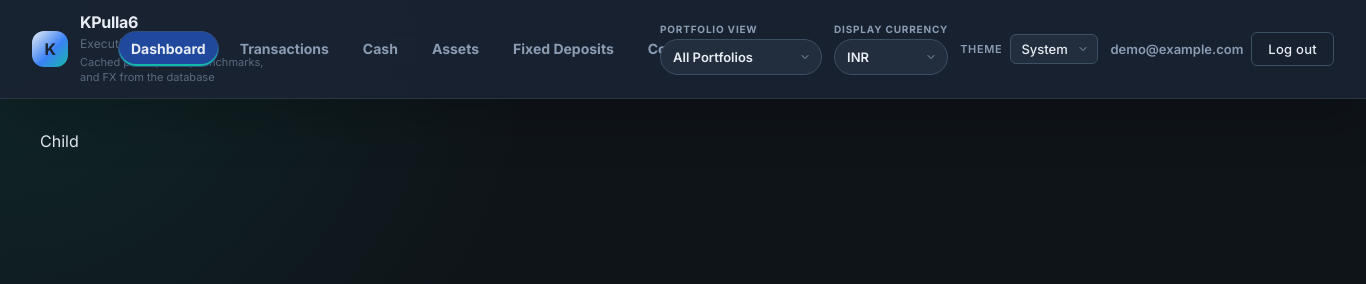
Layout component › auto-selects EUR display currency when selecting EUR portfolio
This screenshot has width=1366, height=284.
Select "Default Portfolio" in the dropdown named "portfolio-view": [741, 57] box x1=660 y1=39 x2=822 y2=75
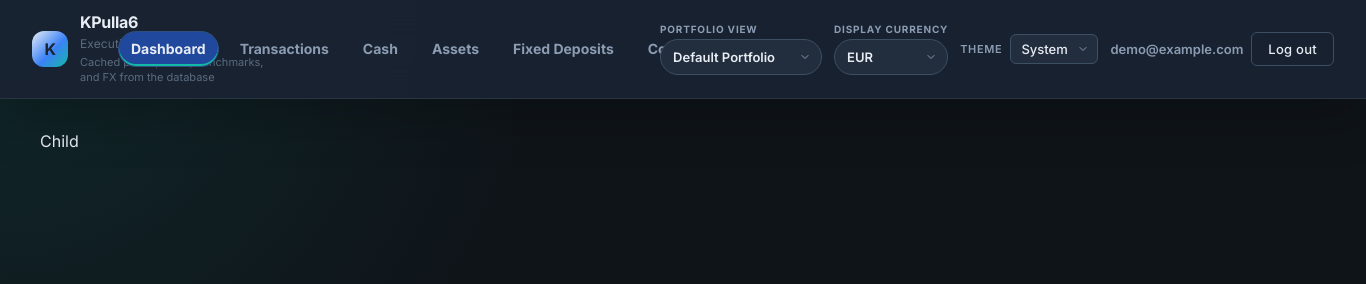
Expected: the dropdown named "display-currency" shows "EUR", x1=834 y1=39 x2=948 y2=75
